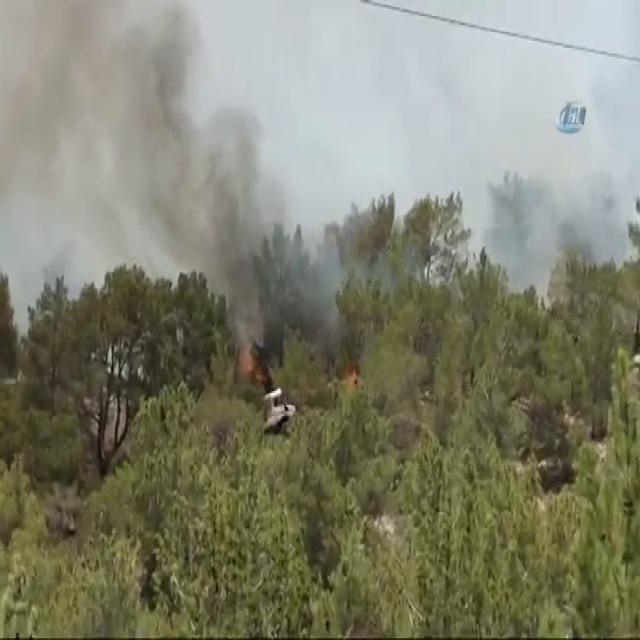Fire: (226, 341, 264, 376), (332, 353, 363, 388)
Smoke: (52, 26, 278, 224)
